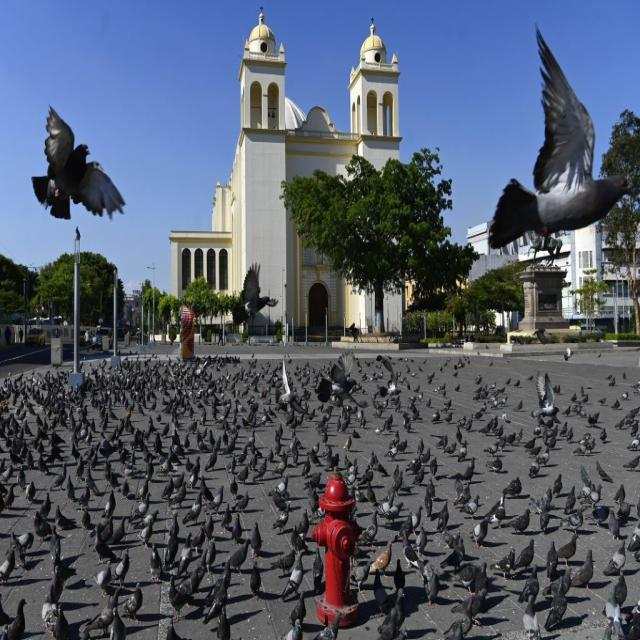bird: (160, 577, 194, 624), (516, 588, 546, 640), (66, 417, 98, 459), (97, 480, 123, 522), (378, 494, 410, 528), (129, 489, 155, 529), (470, 511, 496, 549), (372, 540, 401, 574), (92, 558, 114, 602), (387, 425, 410, 463), (115, 545, 137, 583), (184, 492, 208, 526), (268, 475, 294, 503), (224, 474, 242, 509), (22, 479, 40, 508), (206, 444, 222, 474), (340, 433, 354, 455), (273, 422, 286, 445)
